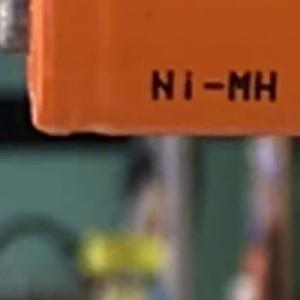keyword: (141, 61, 287, 110)
